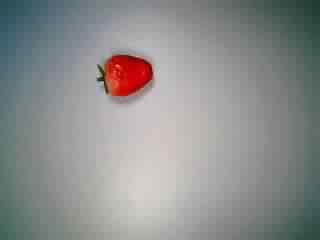strawberry: (91, 46, 160, 102)
